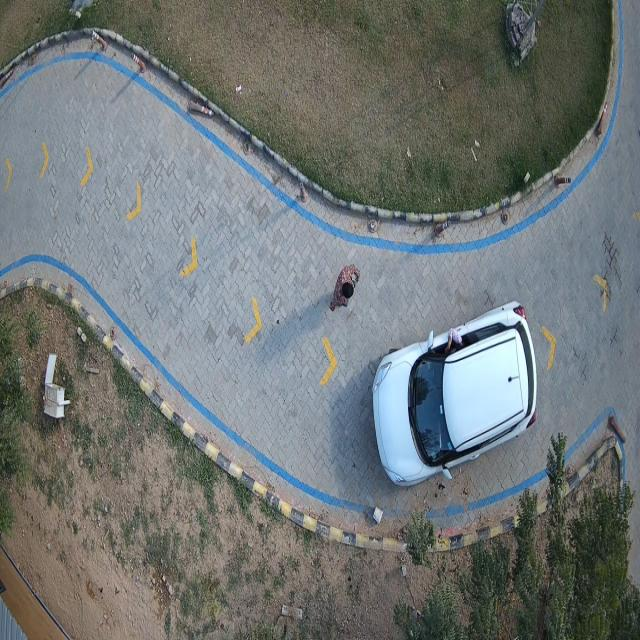car: (371, 299, 538, 489)
